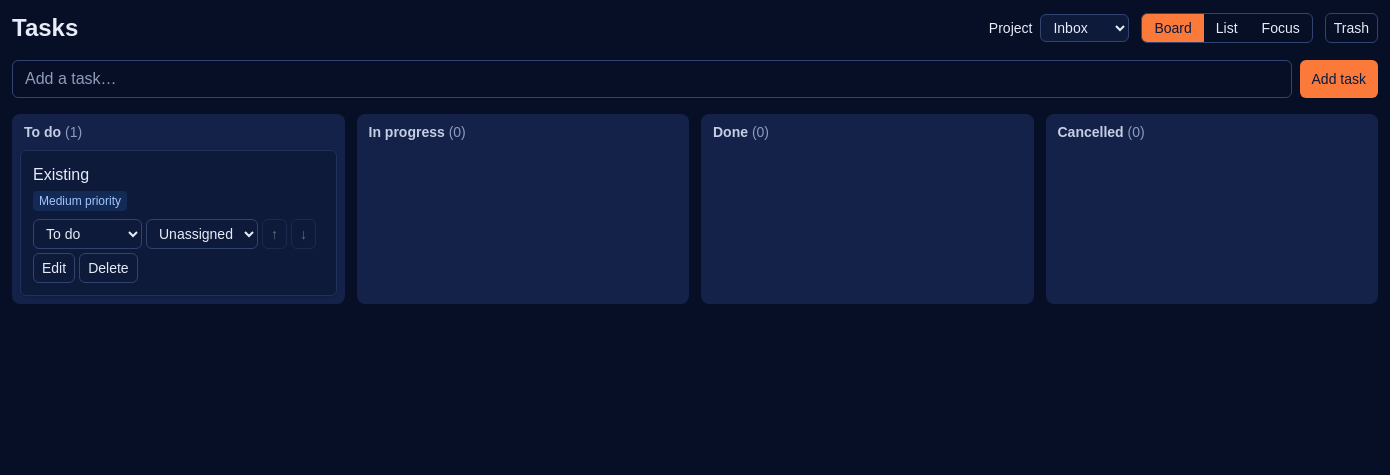
creating › adds a task to the end of To do in the current scope
Expected: the heading "Existing" is shown, [33,166,89,183]
Type "Buy milk" into the field named "New task title" at [652, 79], box [12,60,1292,98]
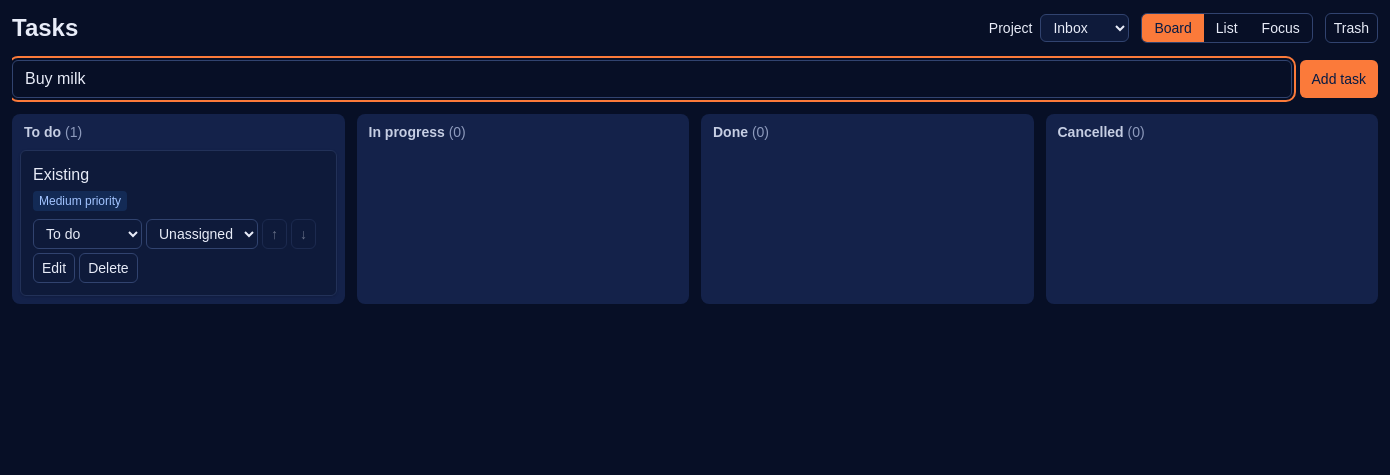
Click the button "Add task" at [1339, 79], box [1300,60,1378,98]
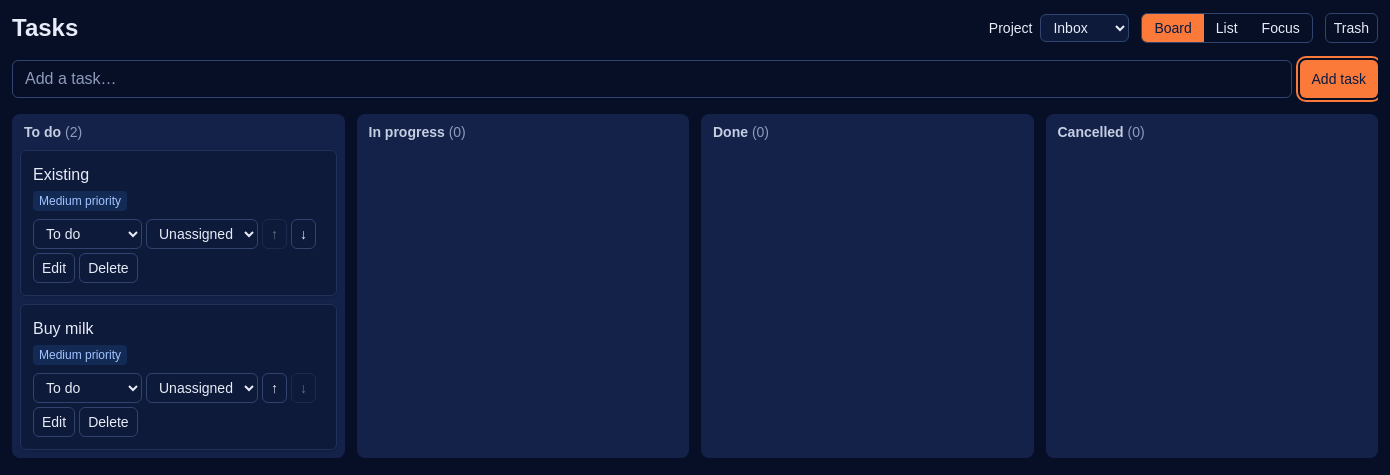
Expected: the heading "Buy milk" is shown, [33,320,94,337]
Expected: the field named "New task title" is empty, [12,60,1292,98]
